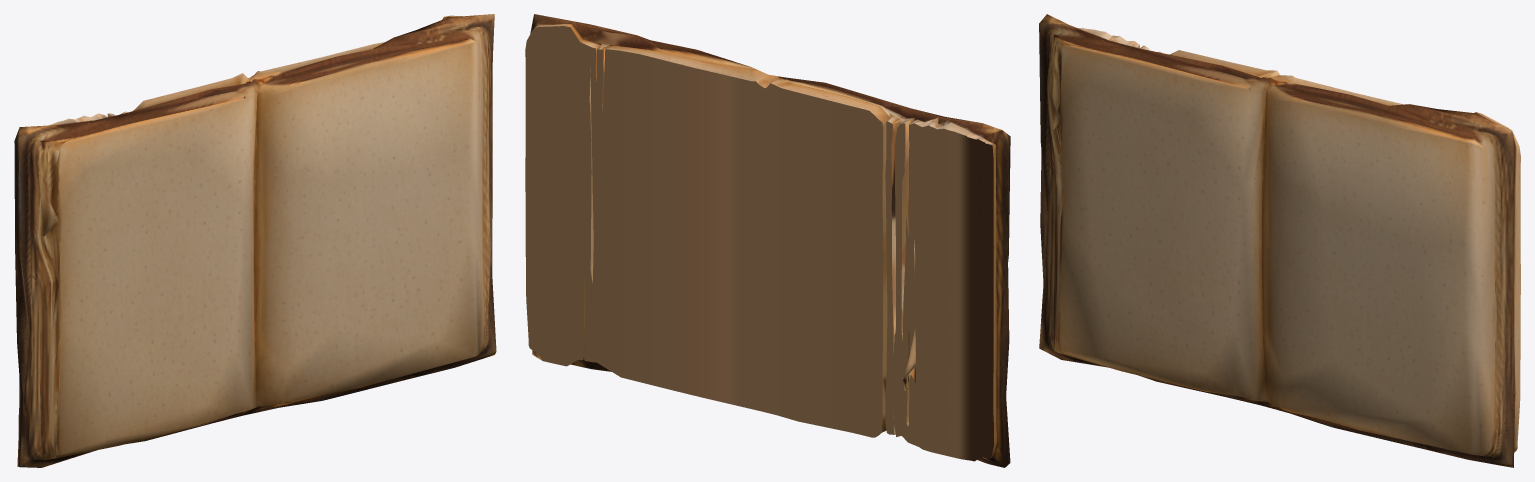
The model's file is List2.fbx.
3 views of the same model, side by side, from view 1: azimuth 30°, elevation 25°; view 2: azimuth 150°, elevation 25°; view 3: azimuth 330°, elevation 25° (orthographic).
Parts seen in each view (by area): view 1: material_0; view 2: material_0; view 3: material_0.
Boxes of the visible parts, <box> form: material_0: <box>14,14,496,467</box>; material_0: <box>525,14,1010,467</box>; material_0: <box>1039,14,1520,467</box>.
Size of the model in its own units: 97.5 by 67.4 by 11.13.
1 material, 1 textured.
